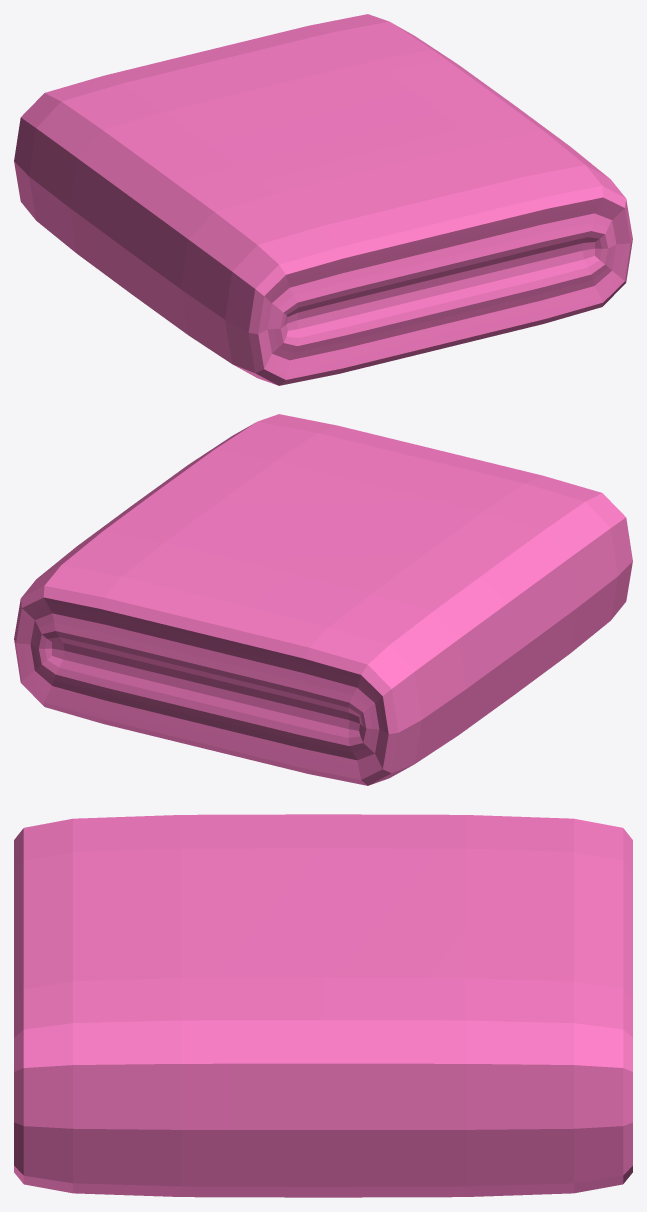
File: Towel_06.fbx
3 views of the same model, one above another, from view 1: azimuth 30°, elevation 25°; view 2: azimuth 150°, elevation 25°; view 3: azimuth 270°, elevation 25° (orthographic). The views are drawn at different scales.
Parts seen in each view (by area): view 1: Towel_06; view 2: Towel_06; view 3: Towel_06.
Part boxes in pixels (box(x1,y1,x2,y2)): Towel_06: box(14, 14, 632, 385); Towel_06: box(14, 414, 632, 785); Towel_06: box(14, 814, 632, 1197).
Size of the model in its own units: 22.53 by 7.88 by 23.8.
